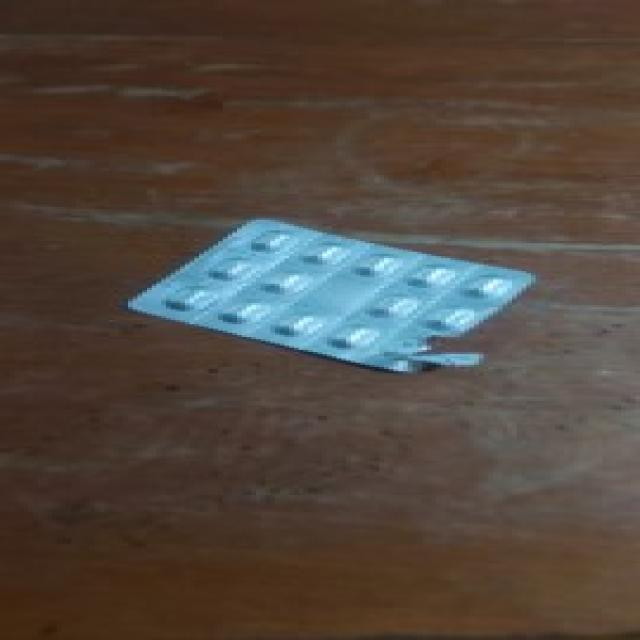Cacat: (121, 219, 536, 375)
Kemasan: (384, 337, 510, 375)
